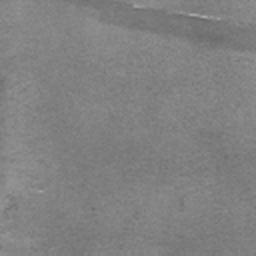Finishing roll printing: (63, 0, 256, 54)
